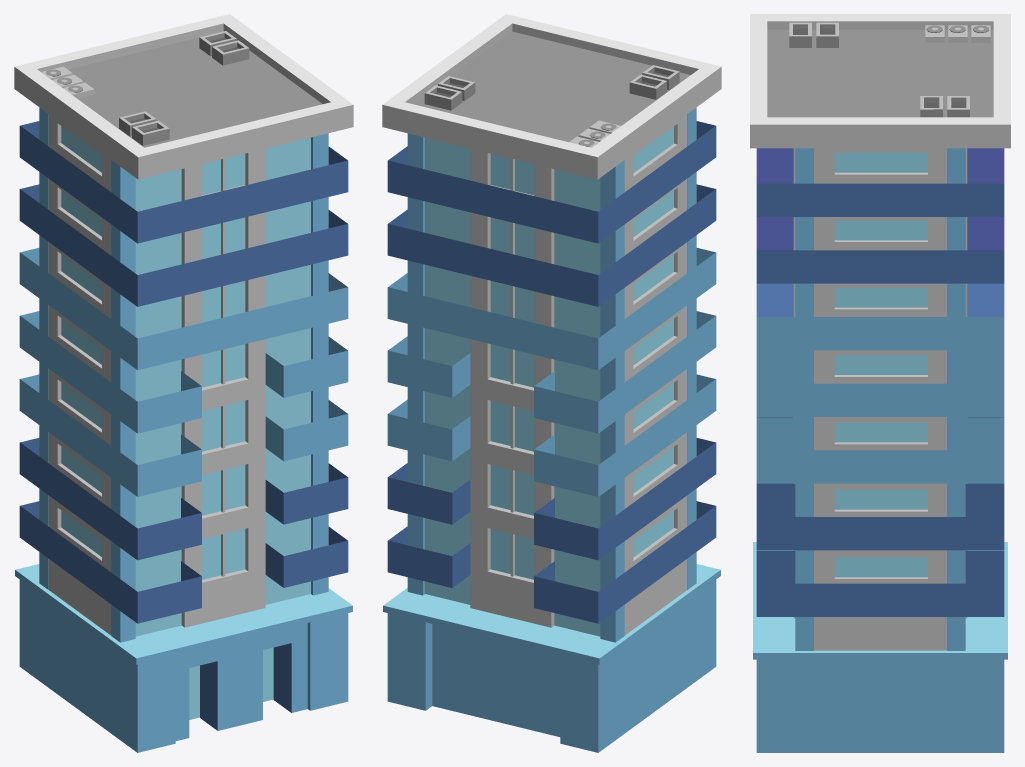
Rendered from Apartment_2.fbx.
3 renders of one model, left to right at view 1: azimuth 30°, elevation 25°; view 2: azimuth 150°, elevation 25°; view 3: azimuth 270°, elevation 25°, orthographic. The views are drawn at different scales.
Parts seen in each view (by area): view 1: Apartment_2; view 2: Apartment_2; view 3: Apartment_2.
Boxes of the visible parts, x1=… form: Apartment_2: x1=14, y1=14, x2=353, y2=752; Apartment_2: x1=382, y1=14, x2=721, y2=752; Apartment_2: x1=750, y1=14, x2=1010, y2=752.
Size of the model in its own units: 4.24 by 11.26 by 4.2.
